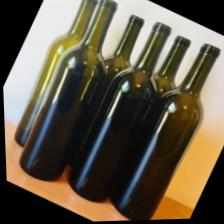glass: (48, 1, 189, 208), (105, 23, 219, 218), (16, 0, 125, 178), (4, 0, 81, 135), (143, 36, 189, 93), (82, 0, 115, 70), (104, 15, 143, 71)
